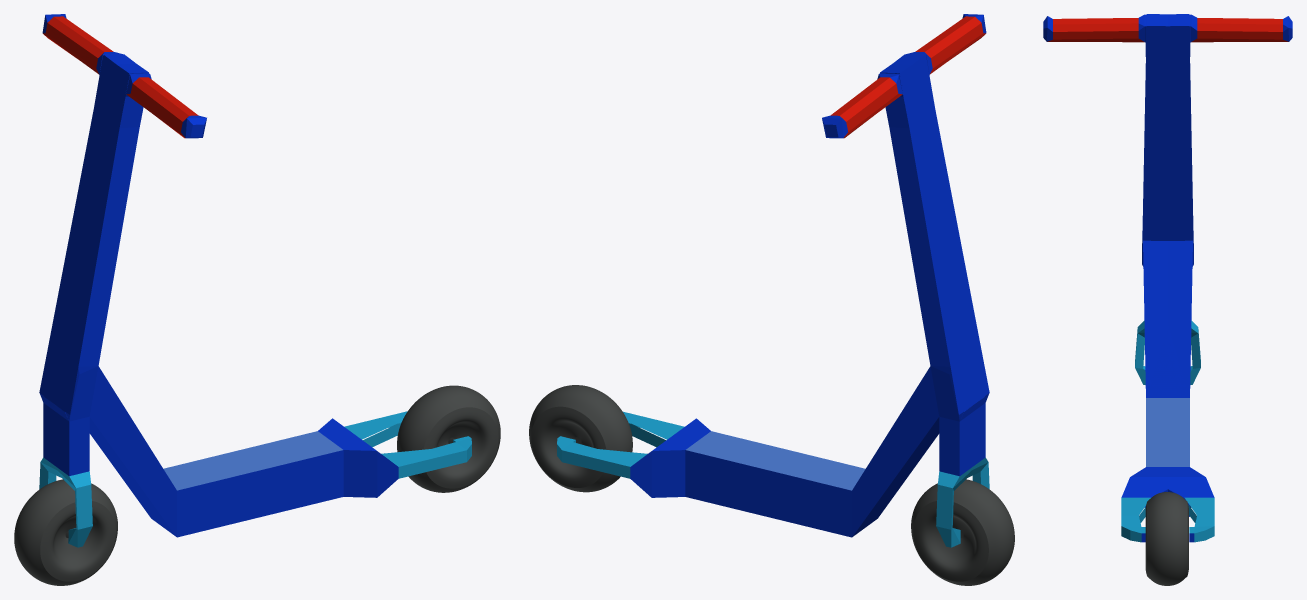
File: Skuter_mod1.fbx
3 renders of one model, left to right at view 1: azimuth 30°, elevation 25°; view 2: azimuth 150°, elevation 25°; view 3: azimuth 270°, elevation 25°, orthographic. The views are drawn at different scales.
Parts seen in each view (by area): view 1: Куб, Окружность.001, Окружность.002; view 2: Куб, Окружность.001, Окружность.002; view 3: Куб, Окружность.002.
Boxes of the visible parts, <box> form: Куб: <box>39,14,471,547</box>; Окружность.001: <box>14,479,117,585</box>; Окружность.002: <box>397,385,500,492</box>; Куб: <box>557,14,989,547</box>; Окружность.001: <box>911,479,1014,585</box>; Окружность.002: <box>529,385,632,492</box>; Куб: <box>1043,14,1292,542</box>; Окружность.002: <box>1145,492,1188,585</box>.
Size of the model in its own units: 977 by 988 by 519.
